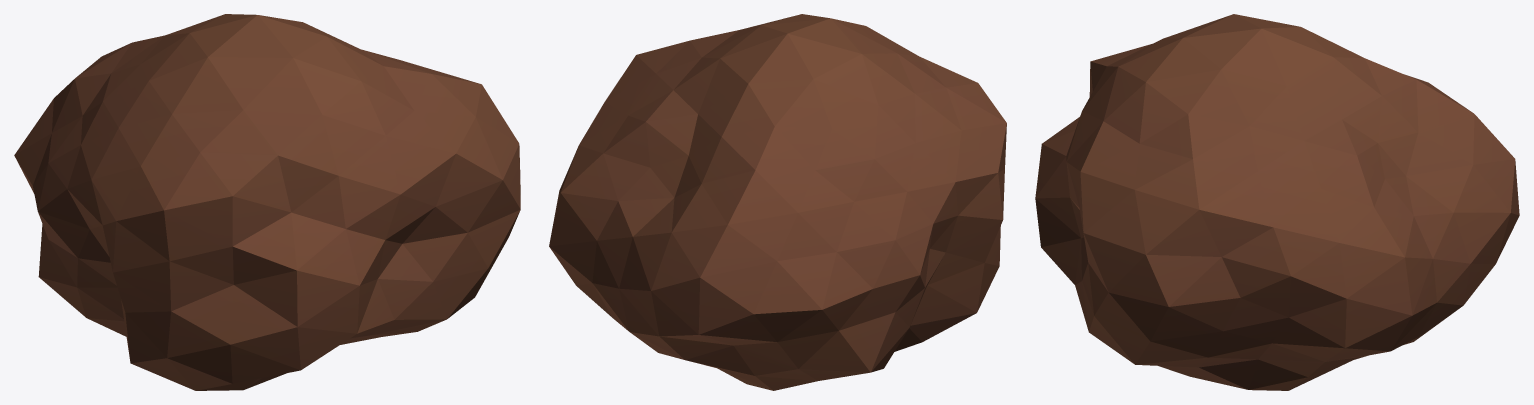
Rendered from ash_land_scatter_c22_30.glb.
3 renders of one model, left to right at view 1: azimuth 30°, elevation 25°; view 2: azimuth 150°, elevation 25°; view 3: azimuth 270°, elevation 25°, orthographic. The views are drawn at different scales.
Visible parts, largest first — view 1: ash_land_scatter_c22_30; view 2: ash_land_scatter_c22_30; view 3: ash_land_scatter_c22_30.
Boxes of the visible parts, x1,y1,x2,y2 form: ash_land_scatter_c22_30: (14, 14, 520, 390); ash_land_scatter_c22_30: (549, 14, 1006, 390); ash_land_scatter_c22_30: (1035, 14, 1519, 390).
Size of the model in its own units: 3.28 by 2.68 by 3.53.
